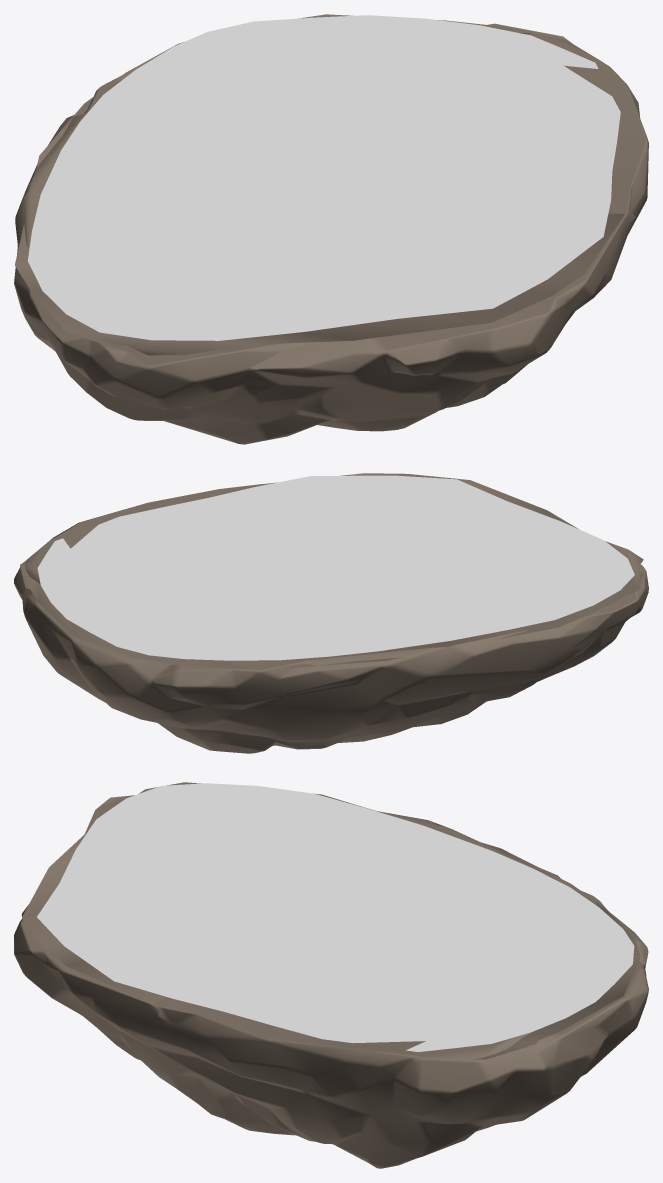
File: IlhaM5.fbx
The picture shows the model from 3 angles, top to bottom: view 1: azimuth 30°, elevation 25°; view 2: azimuth 150°, elevation 25°; view 3: azimuth 270°, elevation 25°; orthographic projection. The views are drawn at different scales.
Parts seen in each view (by area): view 1: IlhaM5Grama, IlhaM5, IlhaM5.Colisor; view 2: IlhaM5Grama, IlhaM5, IlhaM5.Colisor; view 3: IlhaM5Grama, IlhaM5, IlhaM5.Colisor.
Boxes of the visible parts, x1,y1,x2,y2 form: IlhaM5Grama: (28,15,620,340); IlhaM5: (14,33,648,444); IlhaM5.Colisor: (15,14,624,355); IlhaM5Grama: (37,475,634,660); IlhaM5: (14,484,648,753); IlhaM5.Colisor: (20,473,643,667); IlhaM5Grama: (37,783,634,1051); IlhaM5: (14,811,648,1168); IlhaM5.Colisor: (22,782,640,1059).
Size of the model in its own units: 3066 by 961 by 2902.
